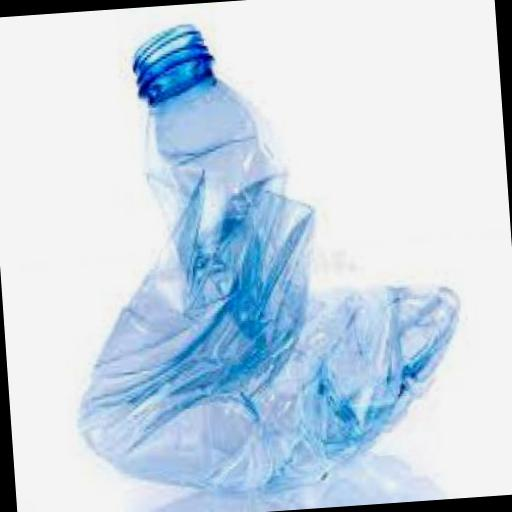plastic: (52, 2, 469, 508)
